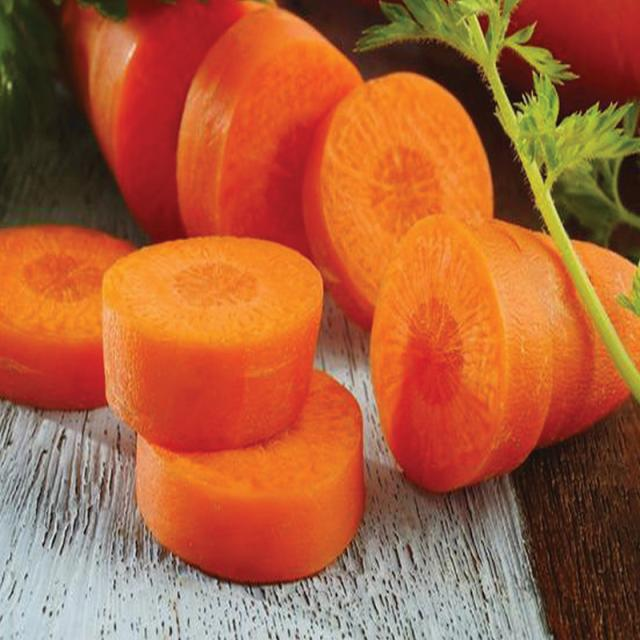ca rot: (106, 0, 627, 491), (0, 225, 363, 582)
